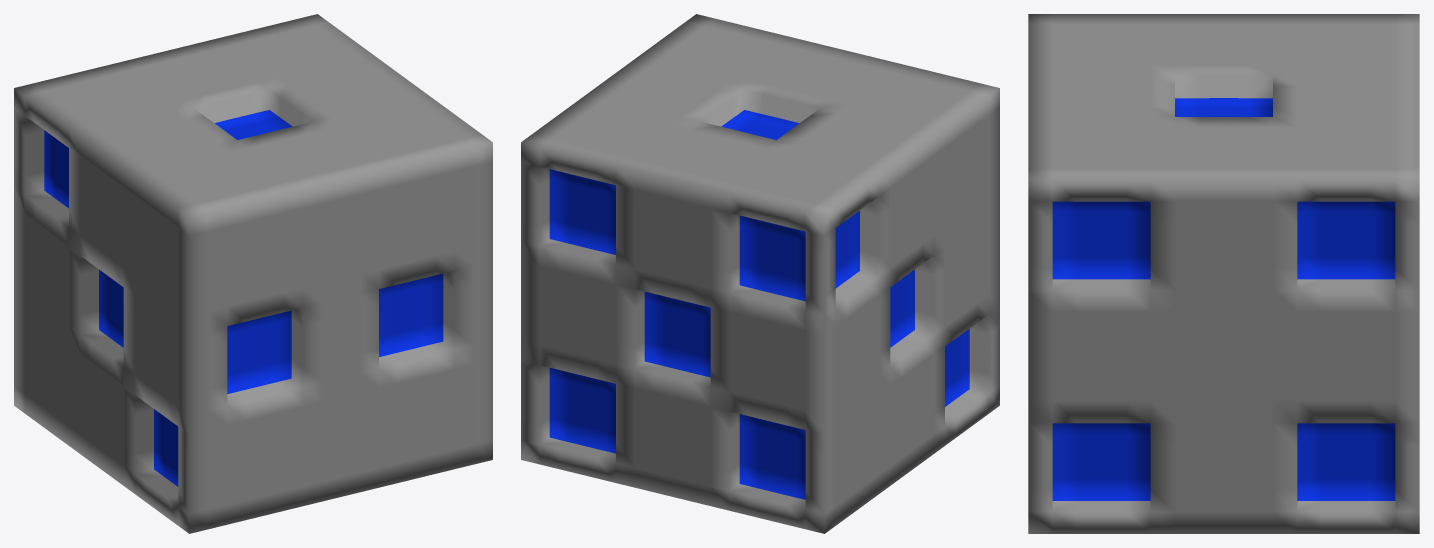
The model's file is dado3.fbx.
3 views of the same model, side by side, from view 1: azimuth 30°, elevation 25°; view 2: azimuth 150°, elevation 25°; view 3: azimuth 270°, elevation 25° (orthographic). The views are drawn at different scales.
Visible parts, largest first — view 1: Cube; view 2: Cube; view 3: Cube.
Part boxes in pixels (<box>): Cube: <box>14,14,492,533</box>; Cube: <box>521,14,999,533</box>; Cube: <box>1028,14,1419,533</box>.
Bounding box in the file's own units: 200 × 200 × 200.
